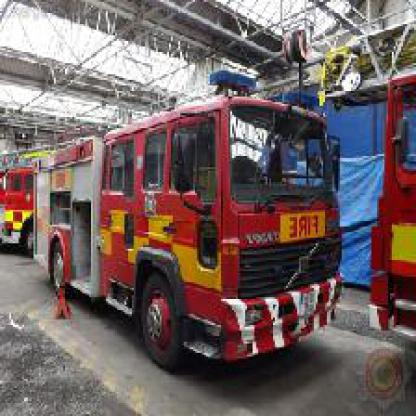emergency: (32, 56, 346, 375), (364, 59, 414, 353), (2, 128, 67, 268)
